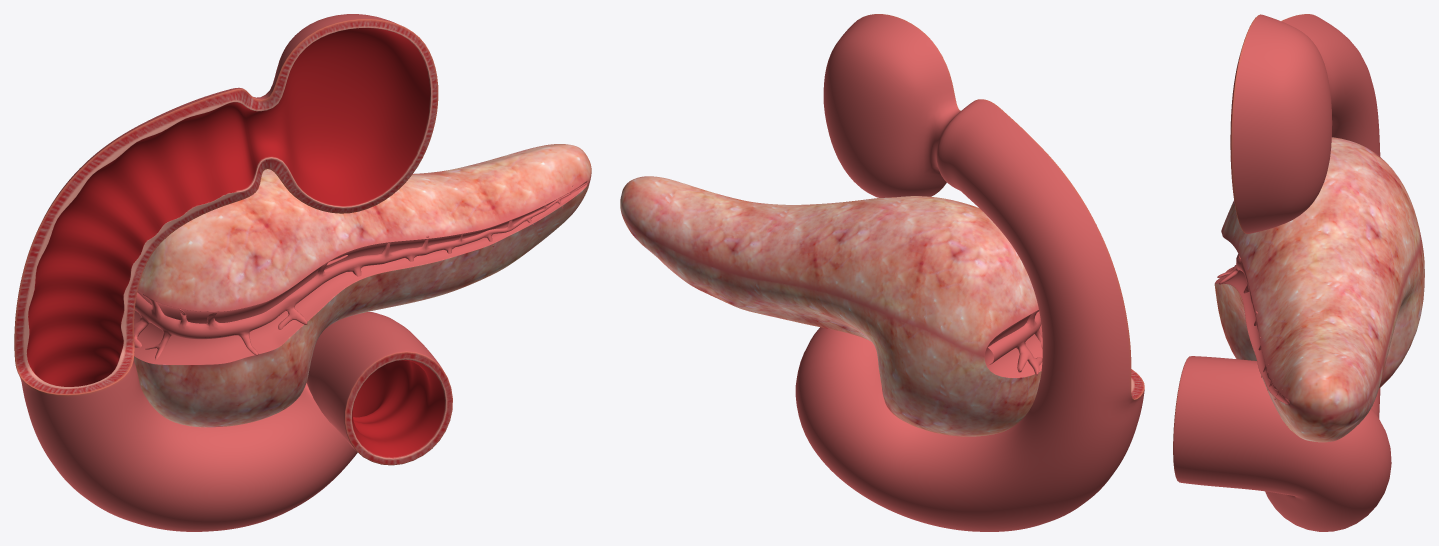
File: pancreas-v1.glb
3 views of the same model, side by side, from view 1: azimuth 30°, elevation 25°; view 2: azimuth 150°, elevation 25°; view 3: azimuth 270°, elevation 25° (orthographic). The views are drawn at different scales.
Parts seen in each view (by area): view 1: pCube3, polySurface1, sweep1; view 2: pCube3, polySurface1, sweep1; view 3: pCube3, polySurface1, sweep1.
Boxes of the visible parts, x1,y1,x2,y2 form: pCube3: [14, 14, 452, 531]; polySurface1: [134, 144, 591, 427]; sweep1: [134, 182, 588, 359]; pCube3: [795, 14, 1144, 531]; polySurface1: [620, 176, 1042, 436]; sweep1: [988, 310, 1042, 375]; pCube3: [1173, 14, 1391, 531]; polySurface1: [1214, 137, 1424, 442]; sweep1: [1217, 253, 1289, 403].
Bounding box in the file's own units: 0.1967 × 0.1682 × 0.0726.
1 material, 1 textured.
